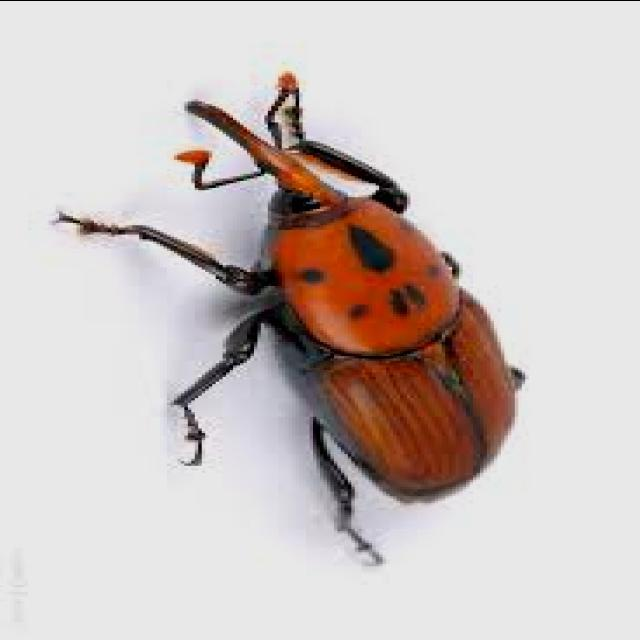Red-palm-weevil: (168, 68, 524, 508)
